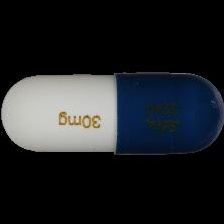63629-4148: (0, 0, 224, 224)
